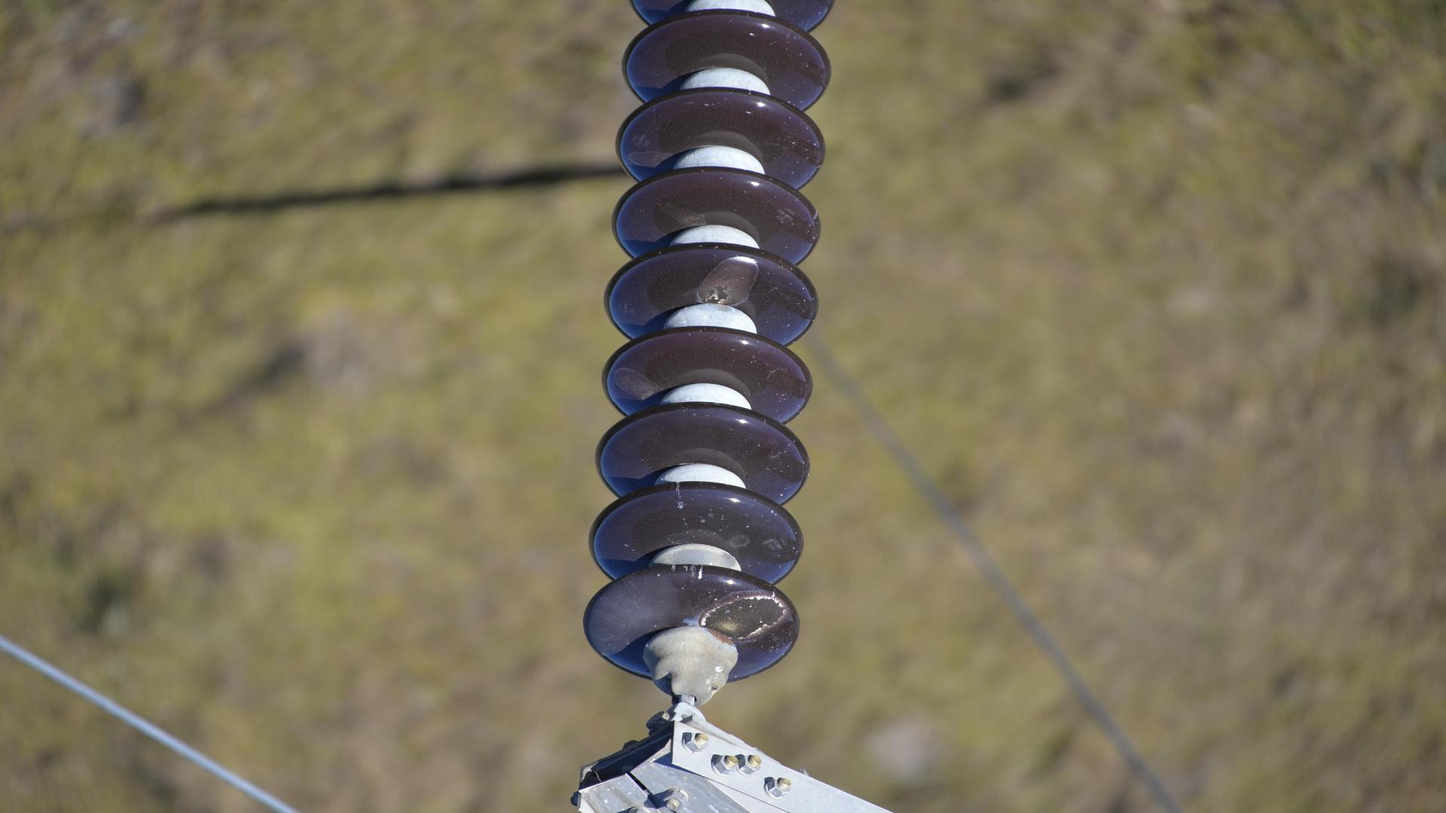insulator: (578, 1, 836, 685)
insulator_flashover: (697, 589, 787, 641), (694, 253, 760, 306)
